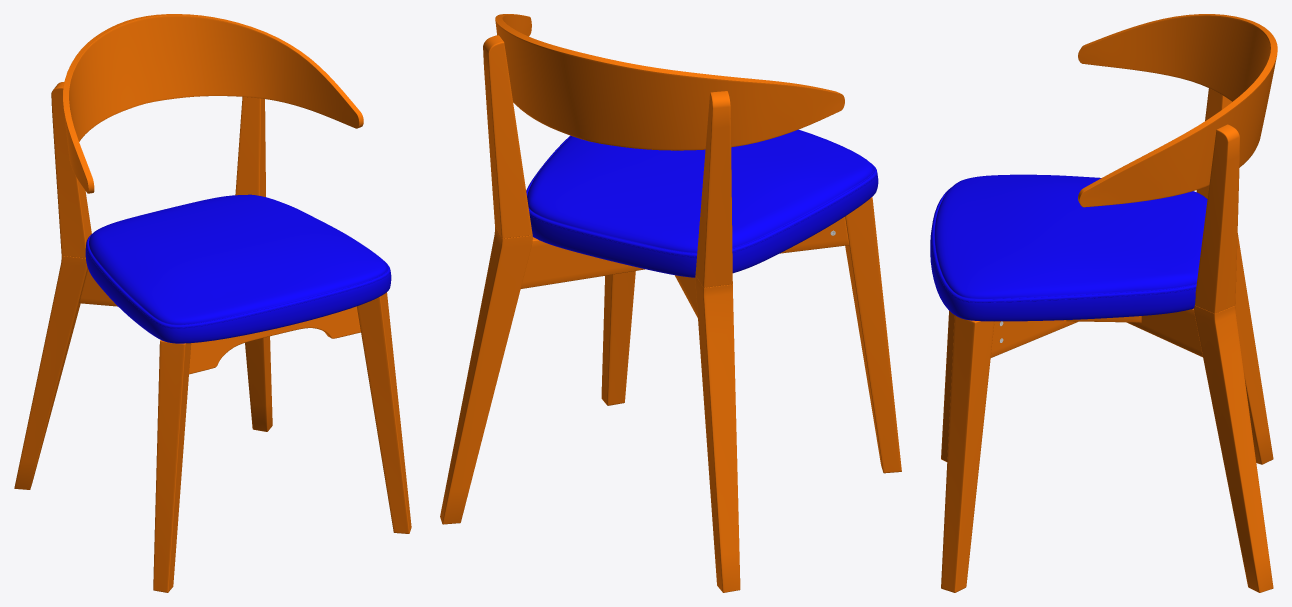
The model's file is EmaWoodVariantV2.glb.
3 views of the same model, side by side, from view 1: azimuth 30°, elevation 25°; view 2: azimuth 150°, elevation 25°; view 3: azimuth 270°, elevation 25° (orthographic). The views are drawn at different scales.
Visible parts, largest first — view 1: EmaWood Chair - Seat, EmaWood Chair- Legs, EmaWood Chair - BackWood; view 2: EmaWood Chair- Legs, EmaWood Chair - Seat, EmaWood Chair - BackWood; view 3: EmaWood Chair - Seat, EmaWood Chair- Legs, EmaWood Chair - BackWood.
Boxes of the visible parts, box(x1,y1,x2,y2) form: EmaWood Chair - Seat: box(85, 194, 391, 343); EmaWood Chair- Legs: box(14, 82, 411, 592); EmaWood Chair - BackWood: box(63, 14, 363, 193); EmaWood Chair- Legs: box(440, 35, 901, 592); EmaWood Chair - Seat: box(526, 129, 878, 277); EmaWood Chair - BackWood: box(495, 14, 844, 150); EmaWood Chair - Seat: box(930, 174, 1207, 321); EmaWood Chair- Legs: box(941, 88, 1273, 592); EmaWood Chair - BackWood: box(1078, 14, 1277, 207).
Size of the model in its own units: 0.5104 by 0.769 by 0.5087.
